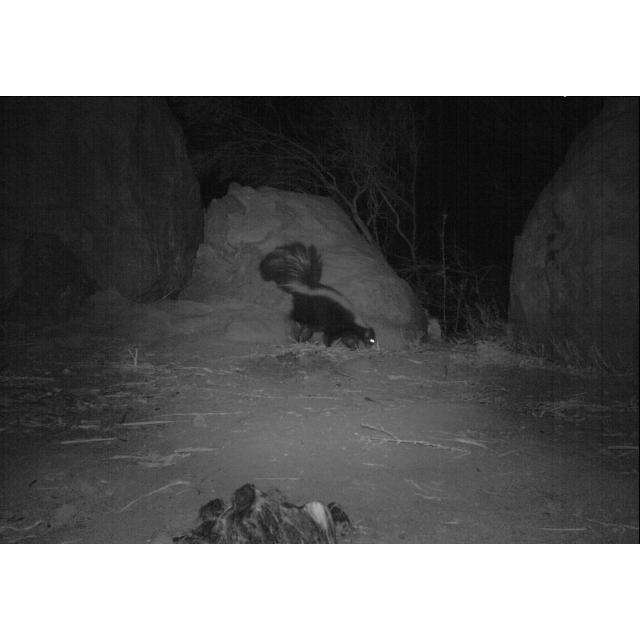animals: (256, 242, 380, 354)
